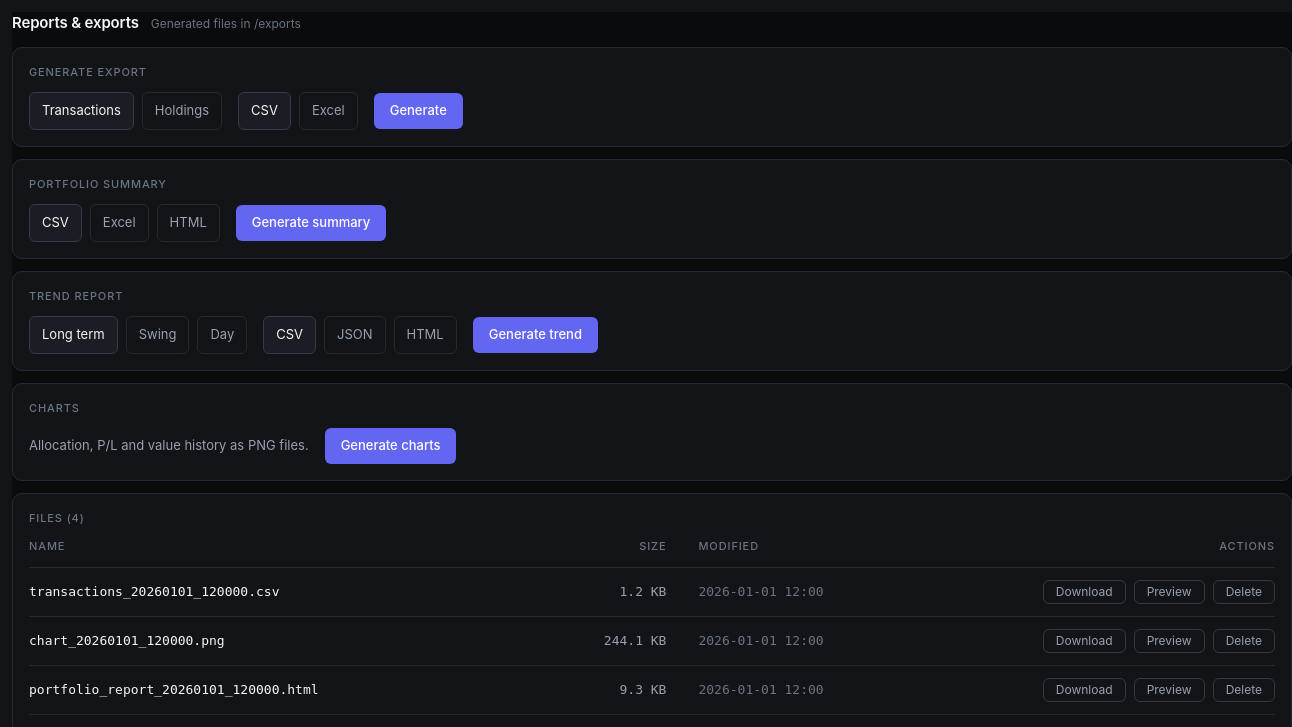
Test case: Reports charts export › posts to the charts endpoint and reloads the file list
Expected: the text "transactions_20260101_120000.csv" is shown, [29,567,544,616]
Expected: the text "Charts" is shown, [29,400,80,414]
Click the button "Generate charts". click: coordinates (390, 446)
box: [325,428,456,464]
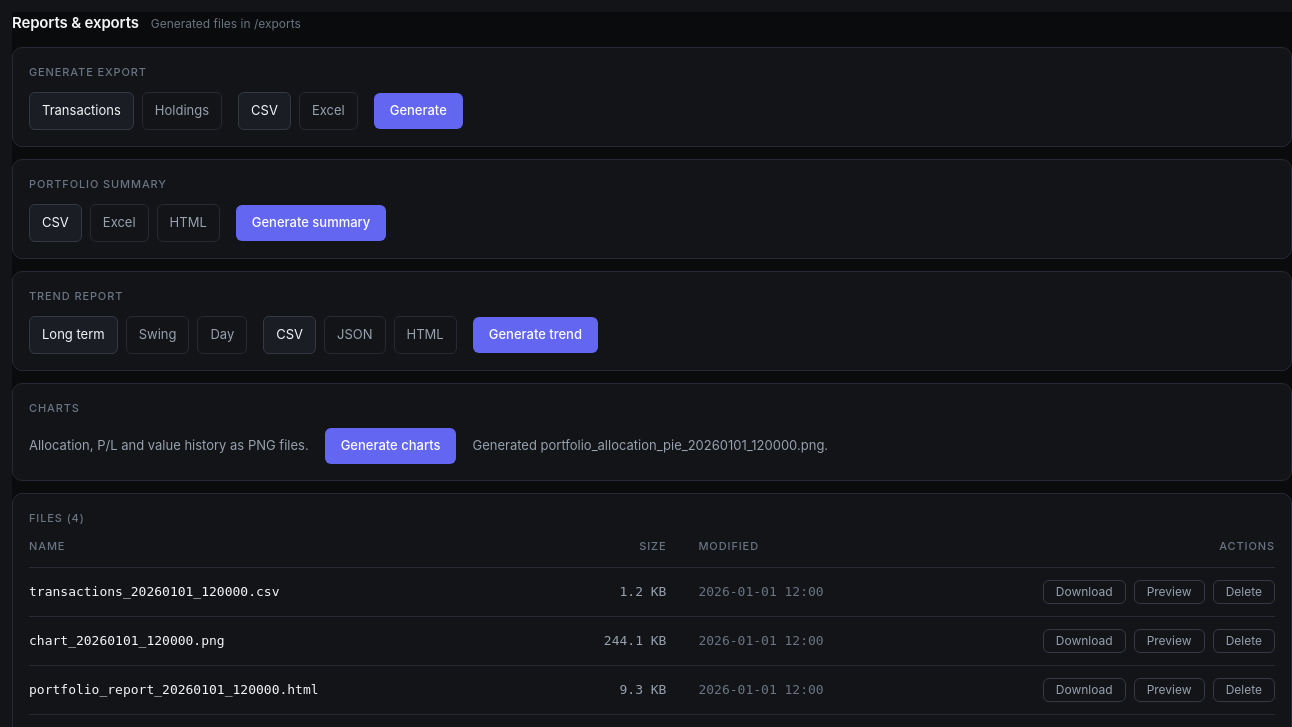
Expected: the text "Generated portfolio_allocation_pie_20260101_120000.png." is shown, [472,436,828,456]
